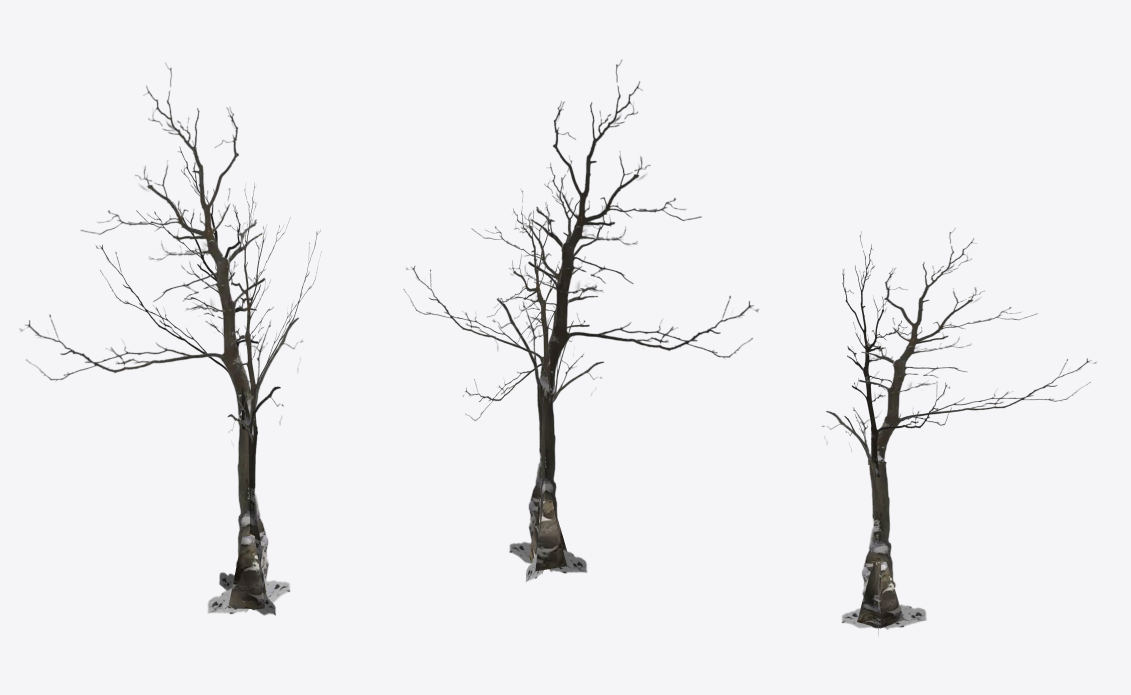
The model's file is trees.glb.
3 renders of one model, left to right at view 1: azimuth 30°, elevation 25°; view 2: azimuth 150°, elevation 25°; view 3: azimuth 270°, elevation 25°, orthographic. The views are drawn at different scales.
Parts seen in each view (by area): view 1: TreeBareTall_treebaretall_0; view 2: TreeBareTall_treebaretall_0; view 3: TreeBareTall_treebaretall_0.
Boxes of the visible parts, box(x1,y1,x2,y2) form: TreeBareTall_treebaretall_0: box(19, 62, 321, 615); TreeBareTall_treebaretall_0: box(403, 59, 759, 582); TreeBareTall_treebaretall_0: box(821, 227, 1097, 635).
Bounding box in the file's own units: 6.7 × 10.14 × 5.66.
Materials: 1 (1 with a texture image).
